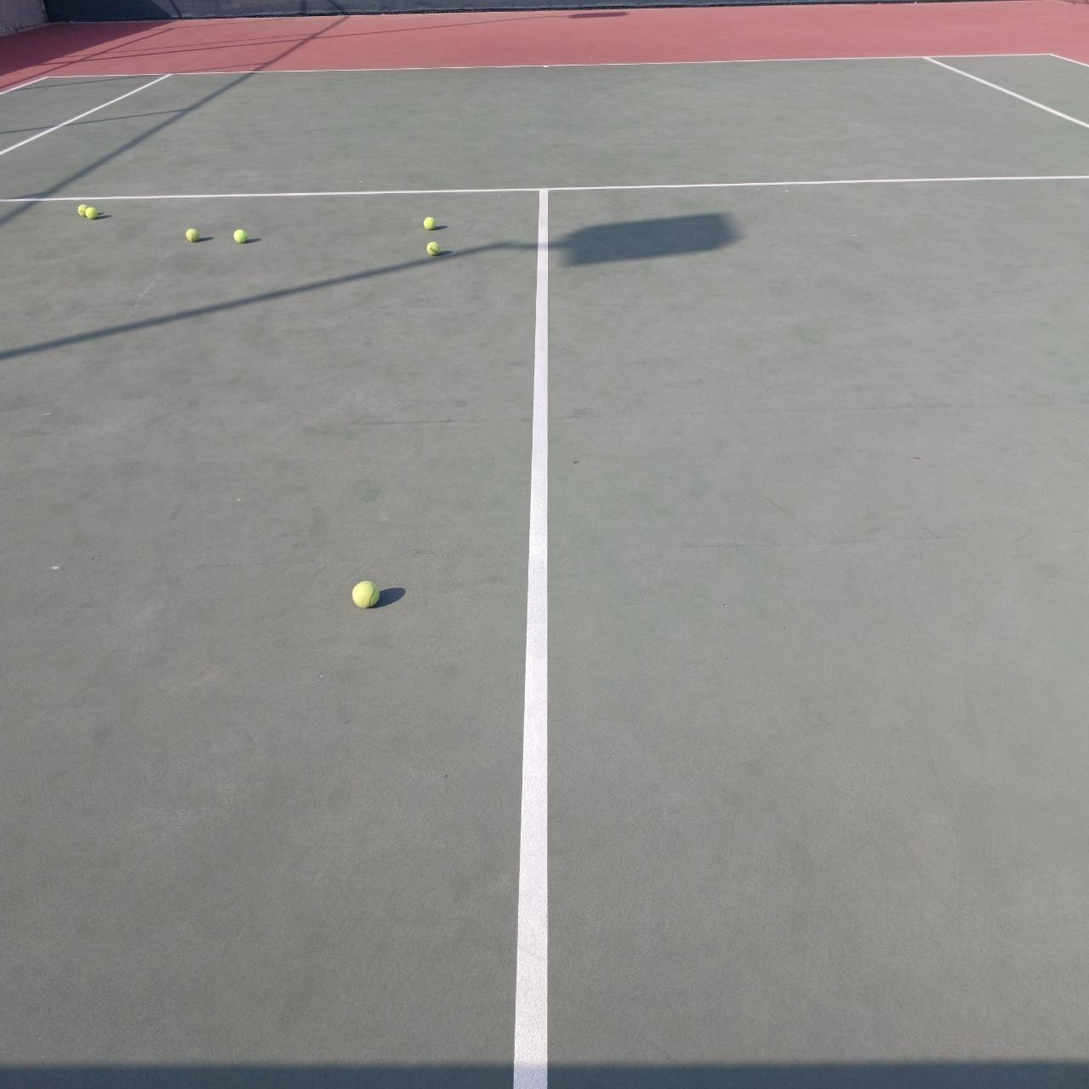tennis-ball: (351, 579, 380, 608), (426, 241, 440, 257), (423, 216, 437, 231), (185, 228, 199, 242), (234, 229, 249, 242), (77, 204, 91, 217), (85, 207, 98, 220)
